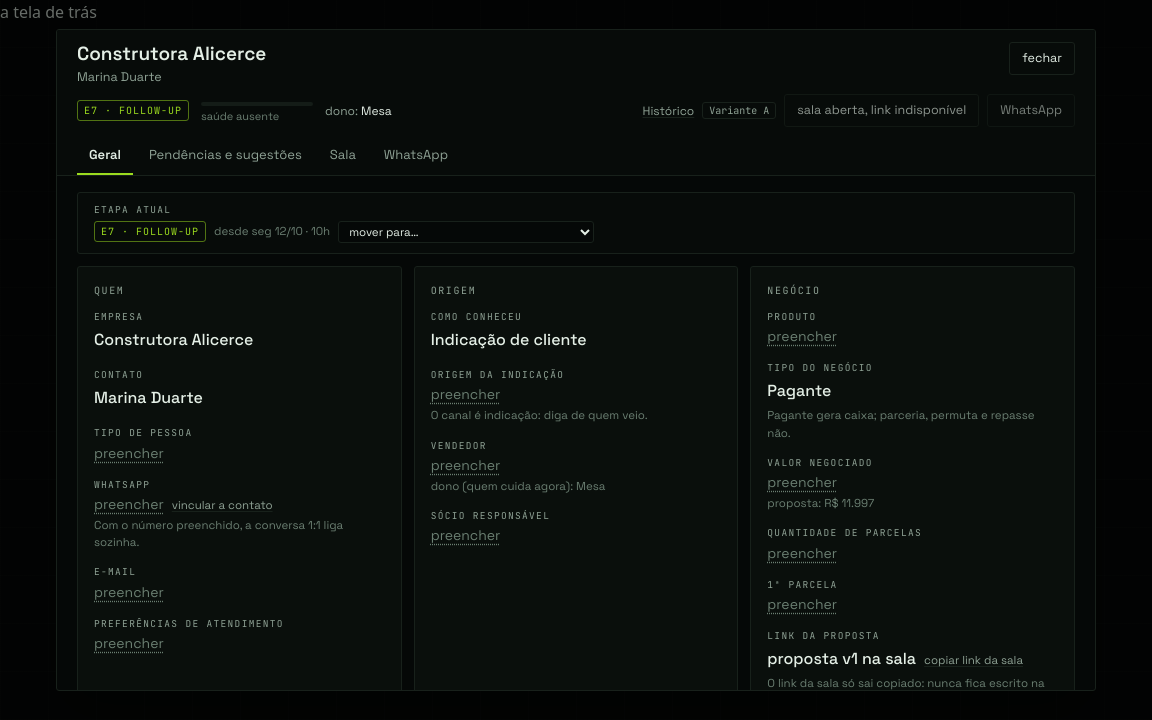
a aba Geral (variante A) › se a API negar, o valor volta e o erro fica ao lado do campo
The width and height of the screenshot is (1152, 720).
Click the button with test id "ficha-valor-email". click: (129,592)
box: [94,582,164,602]
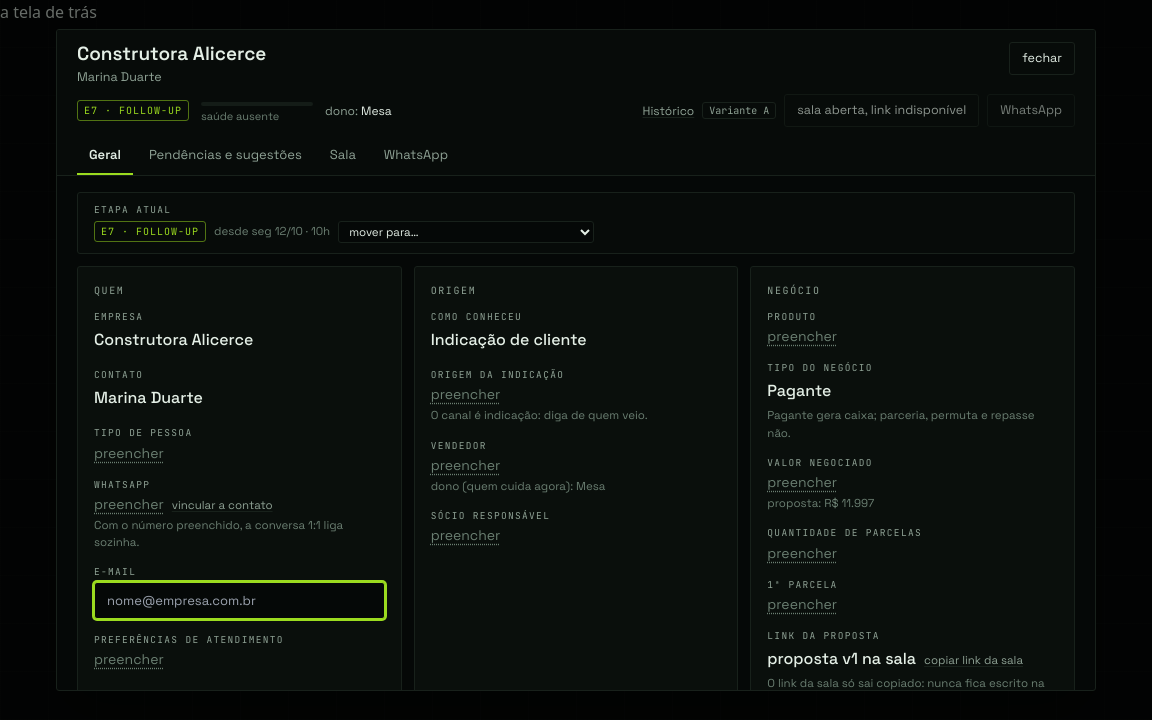
Type "torto" into the field with test id "ficha-editor-email". click: (239,600)
box: [94,582,385,619]
Then press Enter
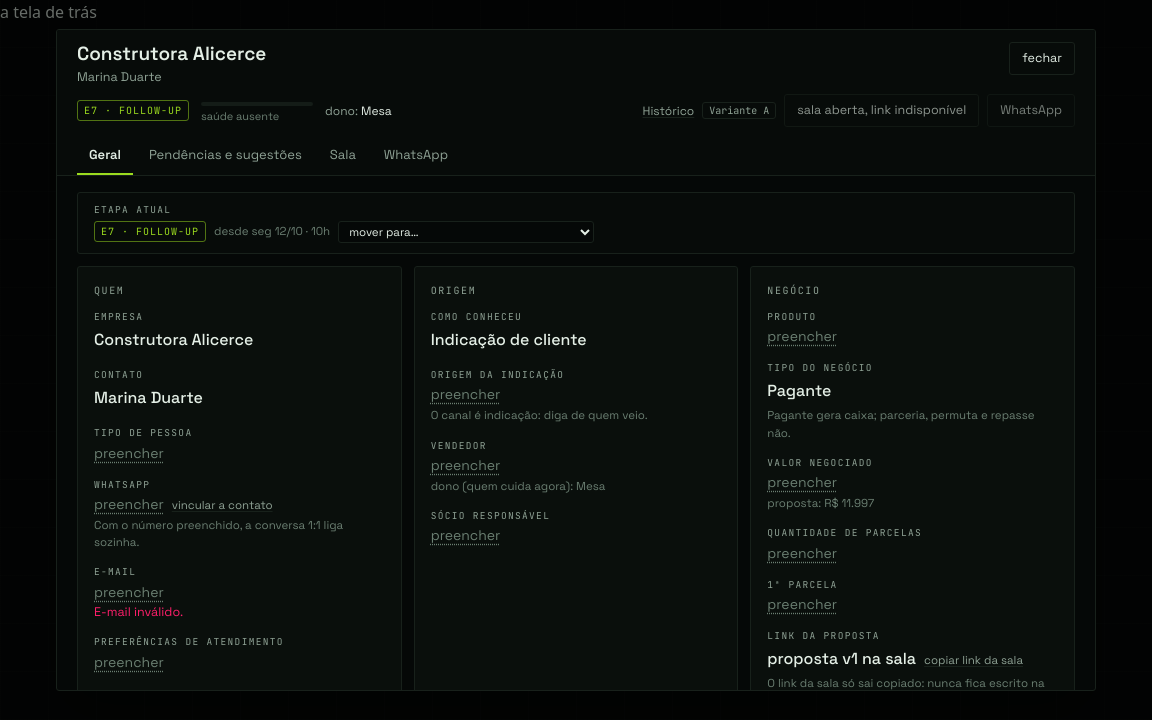
Result: the message reads "E-mail inválido." at [94,604,183,620]
Result: the button with test id "ficha-valor-email" reads "preencher" at [94,582,164,602]
